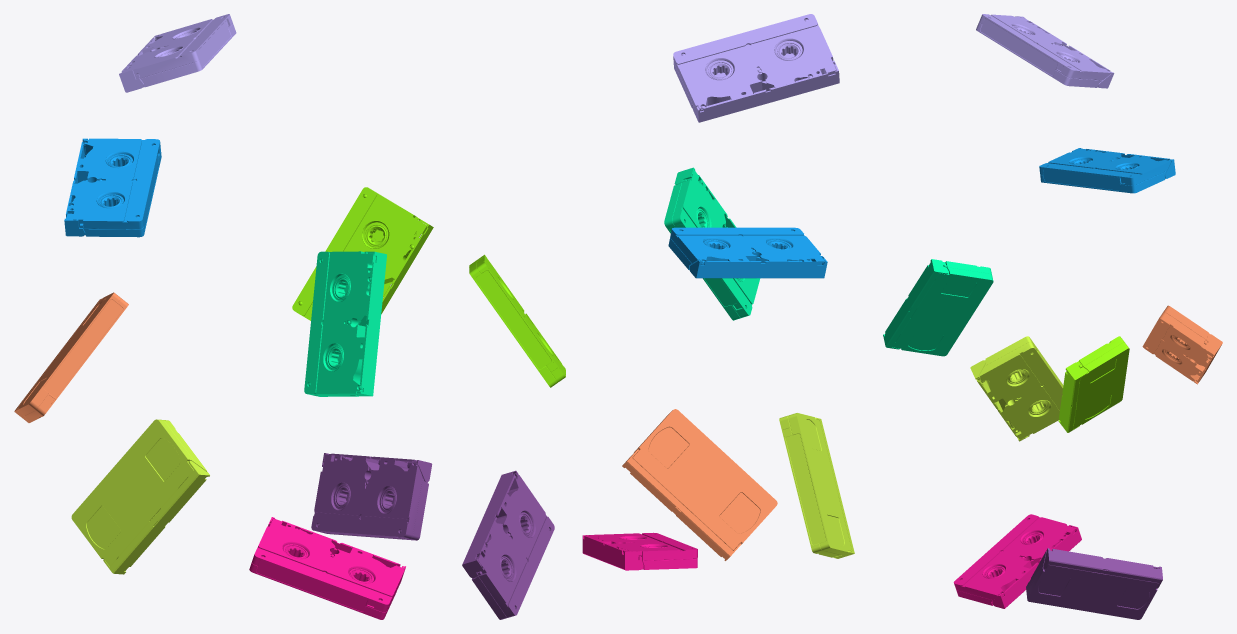
Rendered from Portfolio.glb.
3 views of the same model, side by side, from view 1: azimuth 30°, elevation 25°; view 2: azimuth 150°, elevation 25°; view 3: azimuth 270°, elevation 25° (orthographic). The views are drawn at different scales.
Visible parts, largest first — view 1: VHS.003, VHS.006, VHS.001, VHS.002, VHS.007, VHS.005, VHS.008, VHS.004; view 2: VHS.008, VHS.004, VHS.001, VHS.007, VHS.003, VHS.006, VHS.002, VHS.005; view 3: VHS.001, VHS.006, VHS.003, VHS.002, VHS.008, VHS.007, VHS.005, VHS.004.
Boxes of the visible parts, x1,y1,x2,y2 form: VHS.003: (71, 419, 209, 574); VHS.006: (304, 251, 386, 396); VHS.001: (311, 453, 432, 540); VHS.002: (249, 517, 405, 619); VHS.007: (64, 138, 161, 237); VHS.005: (292, 187, 433, 320); VHS.008: (119, 14, 236, 92); VHS.004: (14, 292, 128, 422); VHS.008: (673, 14, 839, 122); VHS.004: (622, 409, 777, 560); VHS.001: (462, 470, 554, 619); VHS.007: (668, 227, 827, 278); VHS.003: (779, 413, 854, 558); VHS.006: (664, 167, 760, 320); VHS.002: (582, 532, 697, 570); VHS.005: (469, 254, 565, 387); VHS.001: (1026, 548, 1162, 619); VHS.006: (883, 259, 993, 356); VHS.003: (970, 336, 1063, 441); VHS.002: (953, 514, 1081, 608); VHS.008: (976, 14, 1114, 88); VHS.007: (1039, 148, 1175, 193); VHS.005: (1058, 336, 1129, 432); VHS.004: (1142, 305, 1222, 384).
Size of the model in its own units: 5.73 by 9.01 by 5.41.
